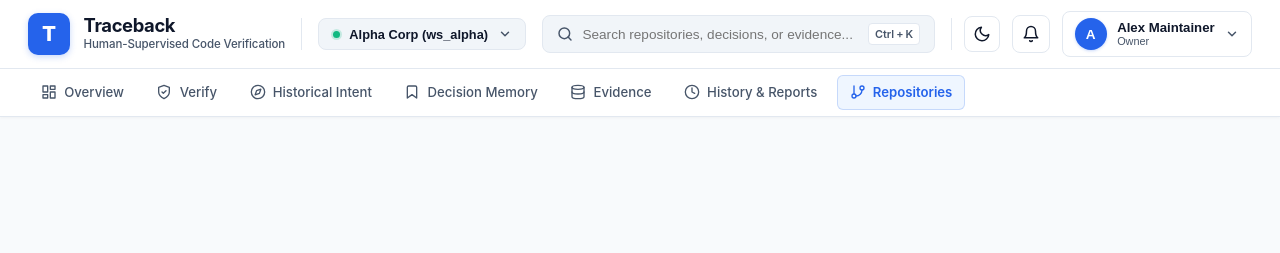
Test case: Navbar Component — Design #2: Elevated with Workspace Selector › renders wide Global Search input with placeholder and shortcut badge
The width and height of the screenshot is (1280, 253).
Expected: the text "Ctrl" is shown, [875,26,894,42]
Expected: the text "K" is shown, [906,26,913,42]
// Focusing search opens quick overlay
Step 1. Focus the field with placeholder "Search repositories, decisions, or evidence..." → [720, 34], box [582,26,858,42]
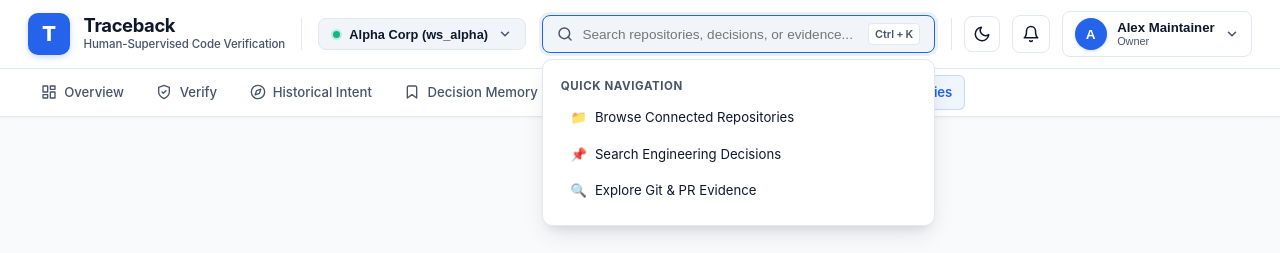
Result: the text "Quick Navigation" is shown at [561,79,683,93]
